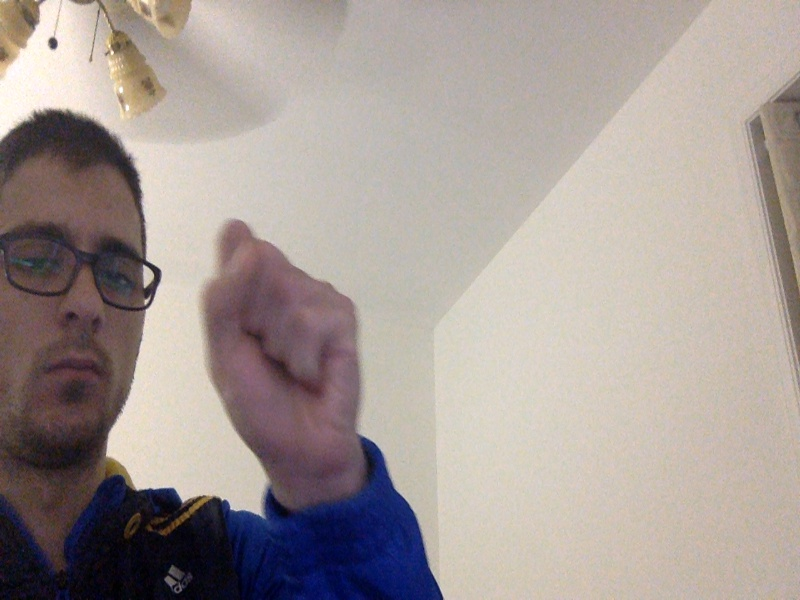0-hand: (203, 223, 363, 468)
